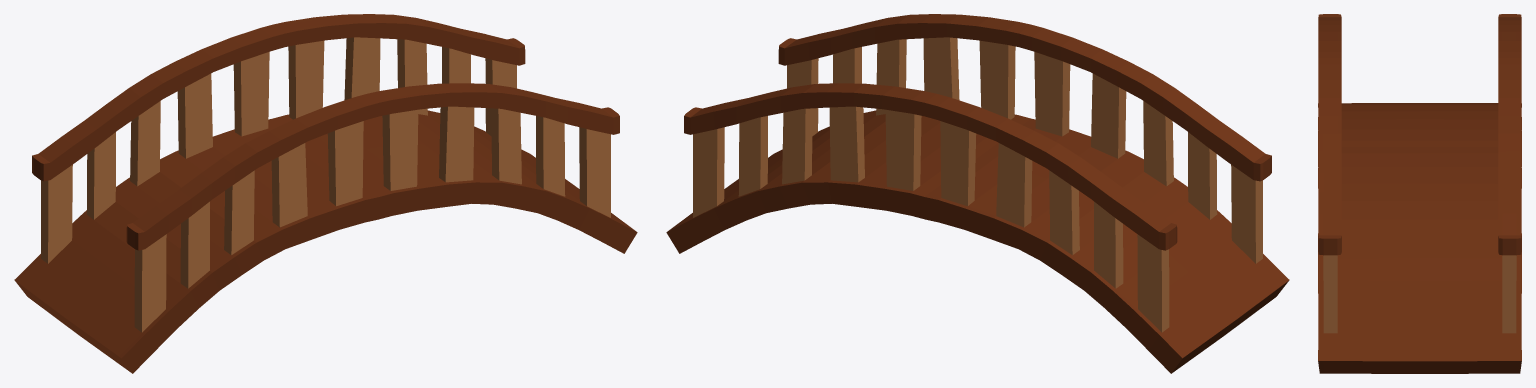
The model's file is ponteArco.fbx.
3 views of the same model, side by side, from view 1: azimuth 30°, elevation 25°; view 2: azimuth 150°, elevation 25°; view 3: azimuth 270°, elevation 25° (orthographic). The views are drawn at different scales.
Parts seen in each view (by area): view 1: Cube.002; view 2: Cube.002; view 3: Cube.002.
Boxes of the visible parts, <box> form: Cube.002: <box>14,14,637,373</box>; Cube.002: <box>666,14,1289,373</box>; Cube.002: <box>1318,14,1521,373</box>.
Size of the model in its own units: 154 by 60.23 by 55.19.
